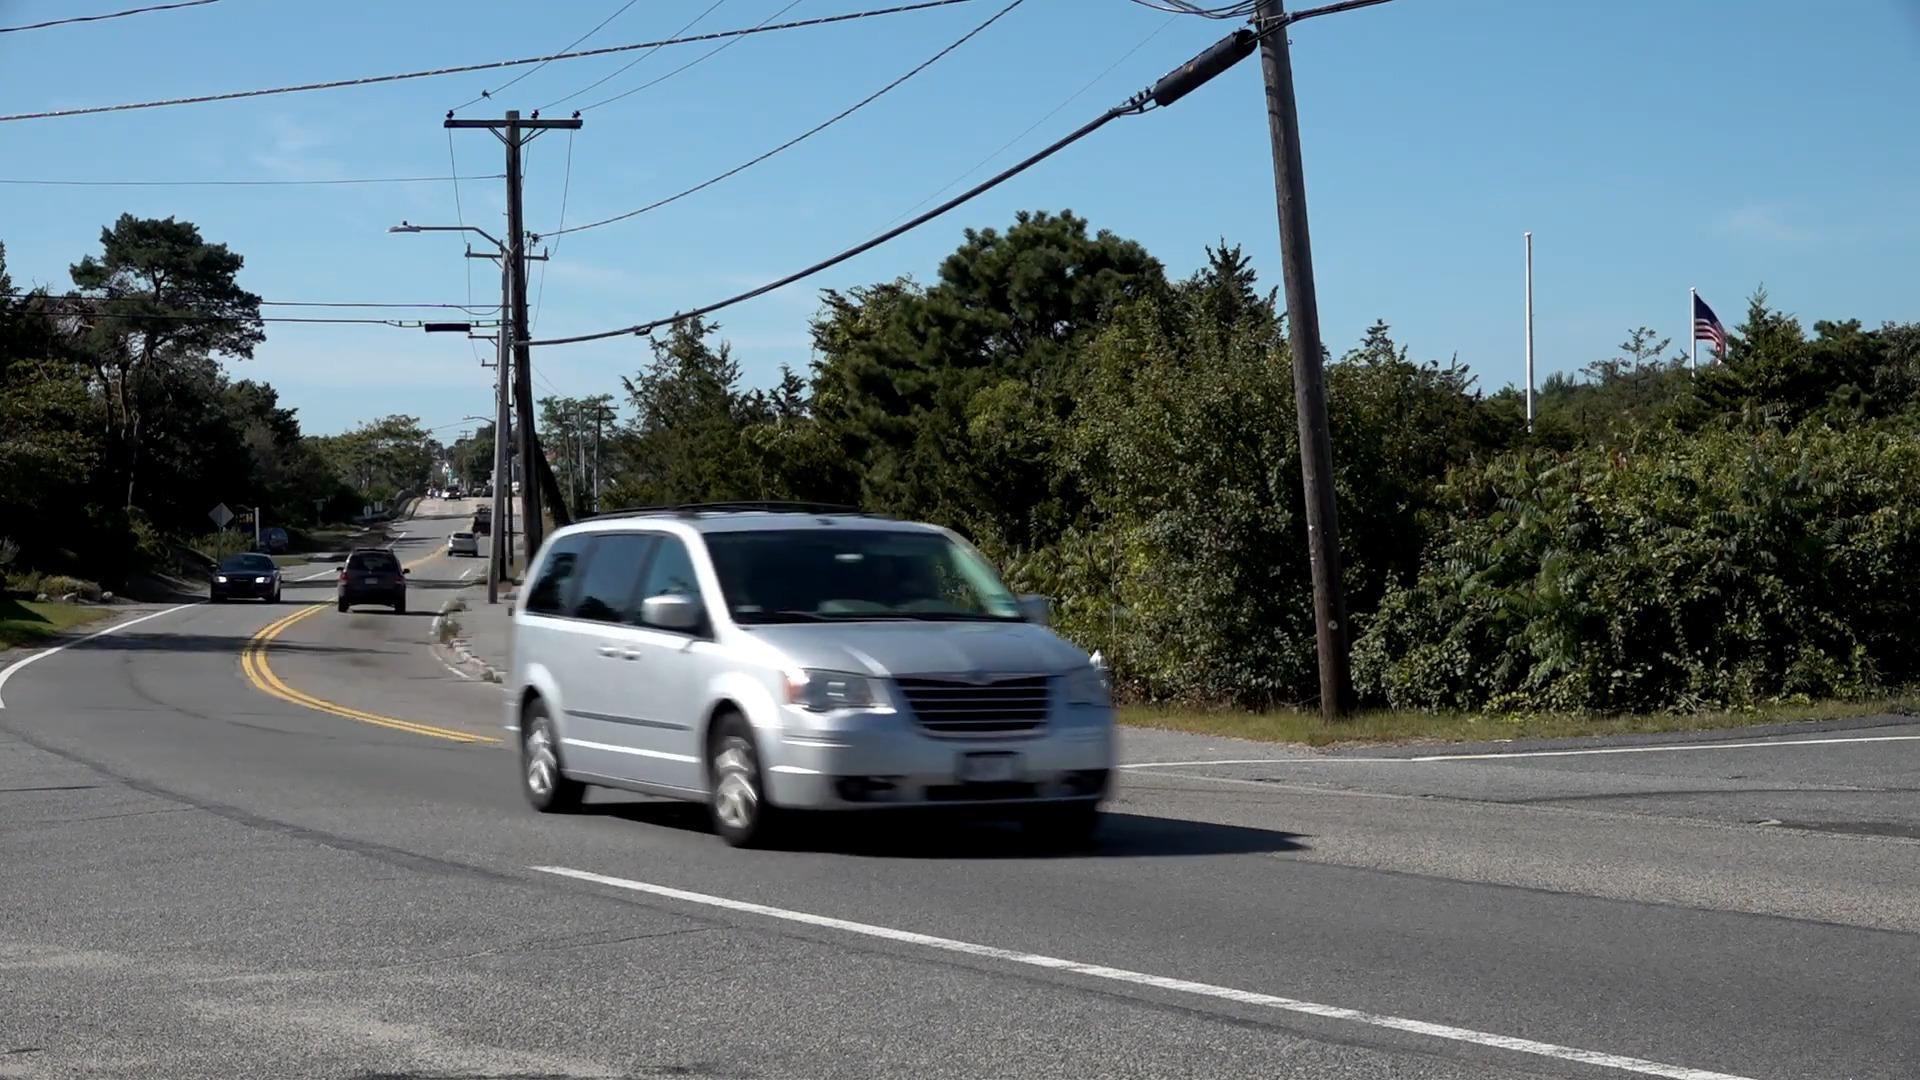minivan: (517, 513, 1120, 849)
